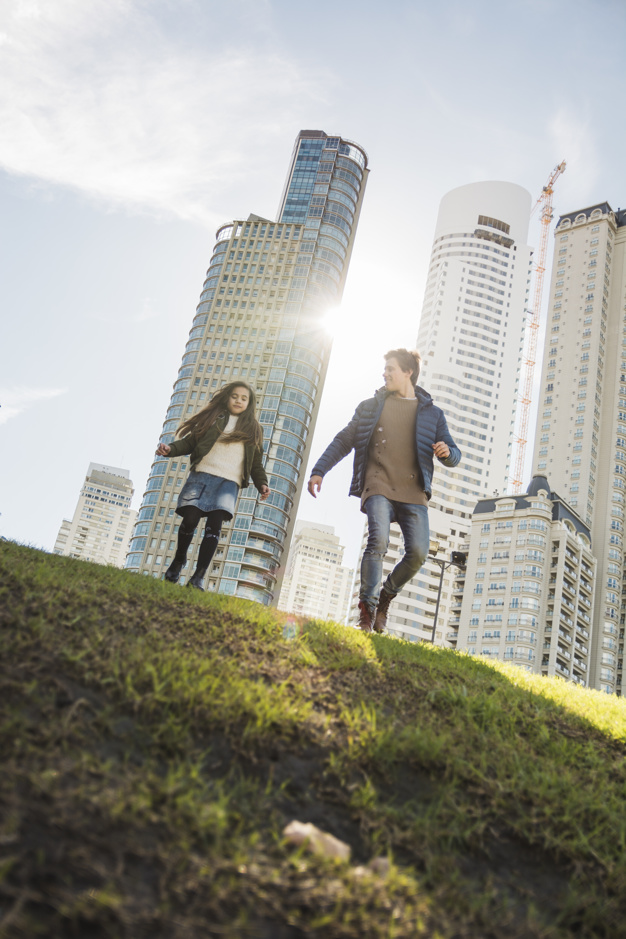Person: (300, 343, 465, 637), (143, 378, 276, 597)
